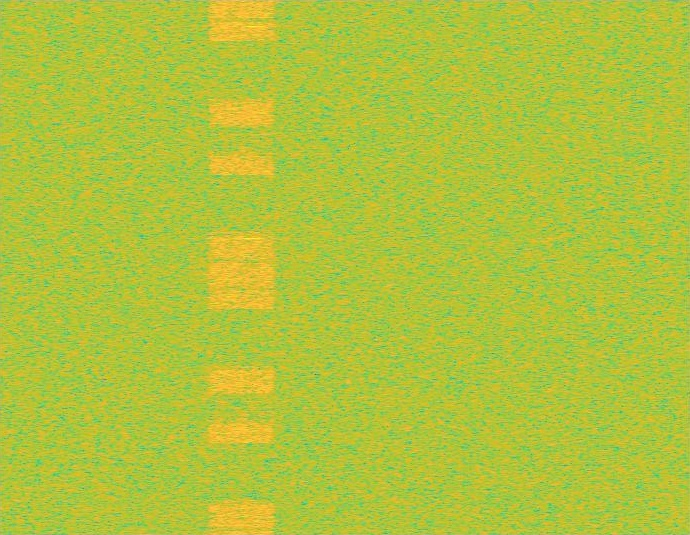LTE: (207, 0, 276, 534)
Radar: (247, 0, 261, 534)
